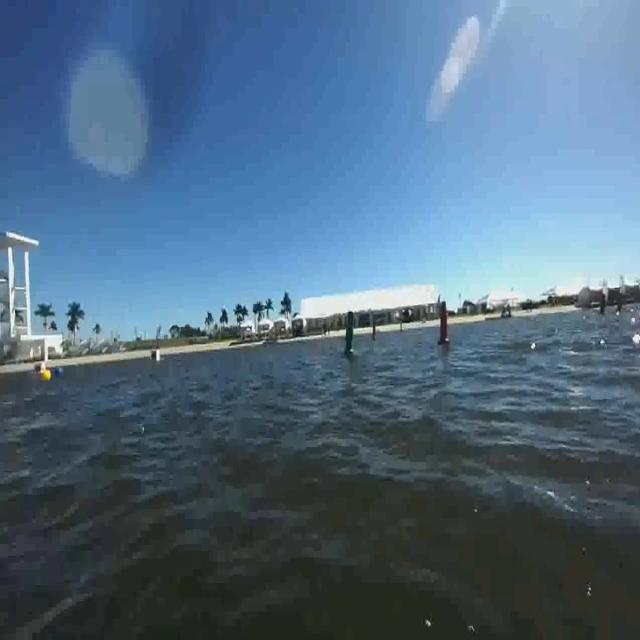green-column-buoy: (340, 301, 358, 359)
red-column-buoy: (436, 296, 458, 357)
yellow-duck: (35, 356, 52, 384)
